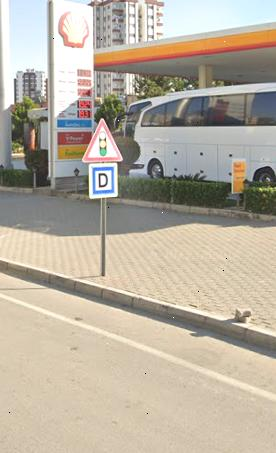station: (90, 165, 117, 196)
